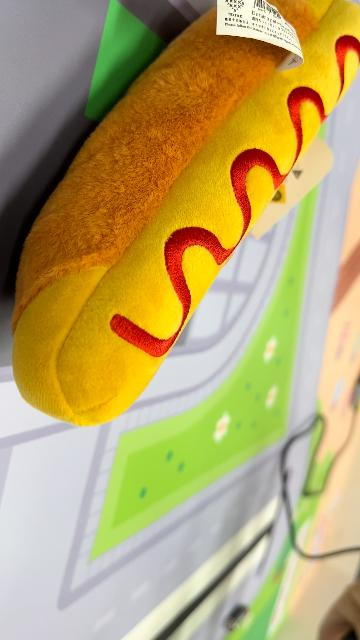hotdog: (10, 1, 358, 428)
